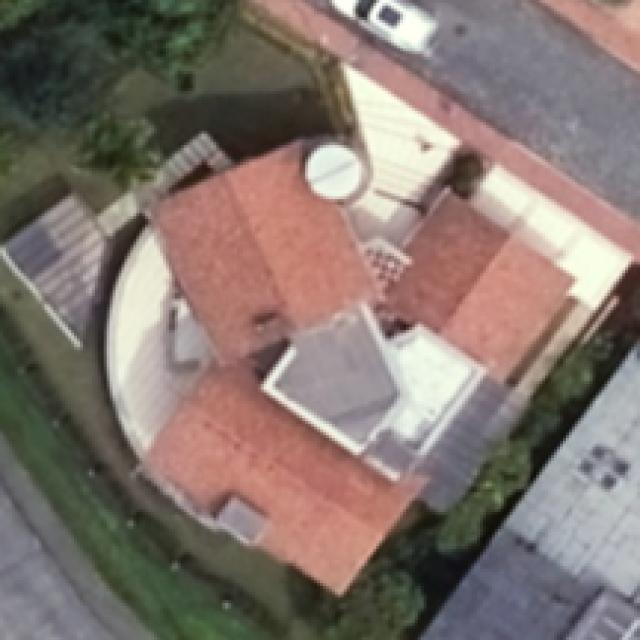Batiment: (145, 365, 423, 593), (155, 141, 375, 363), (387, 195, 572, 381), (275, 305, 398, 443)
